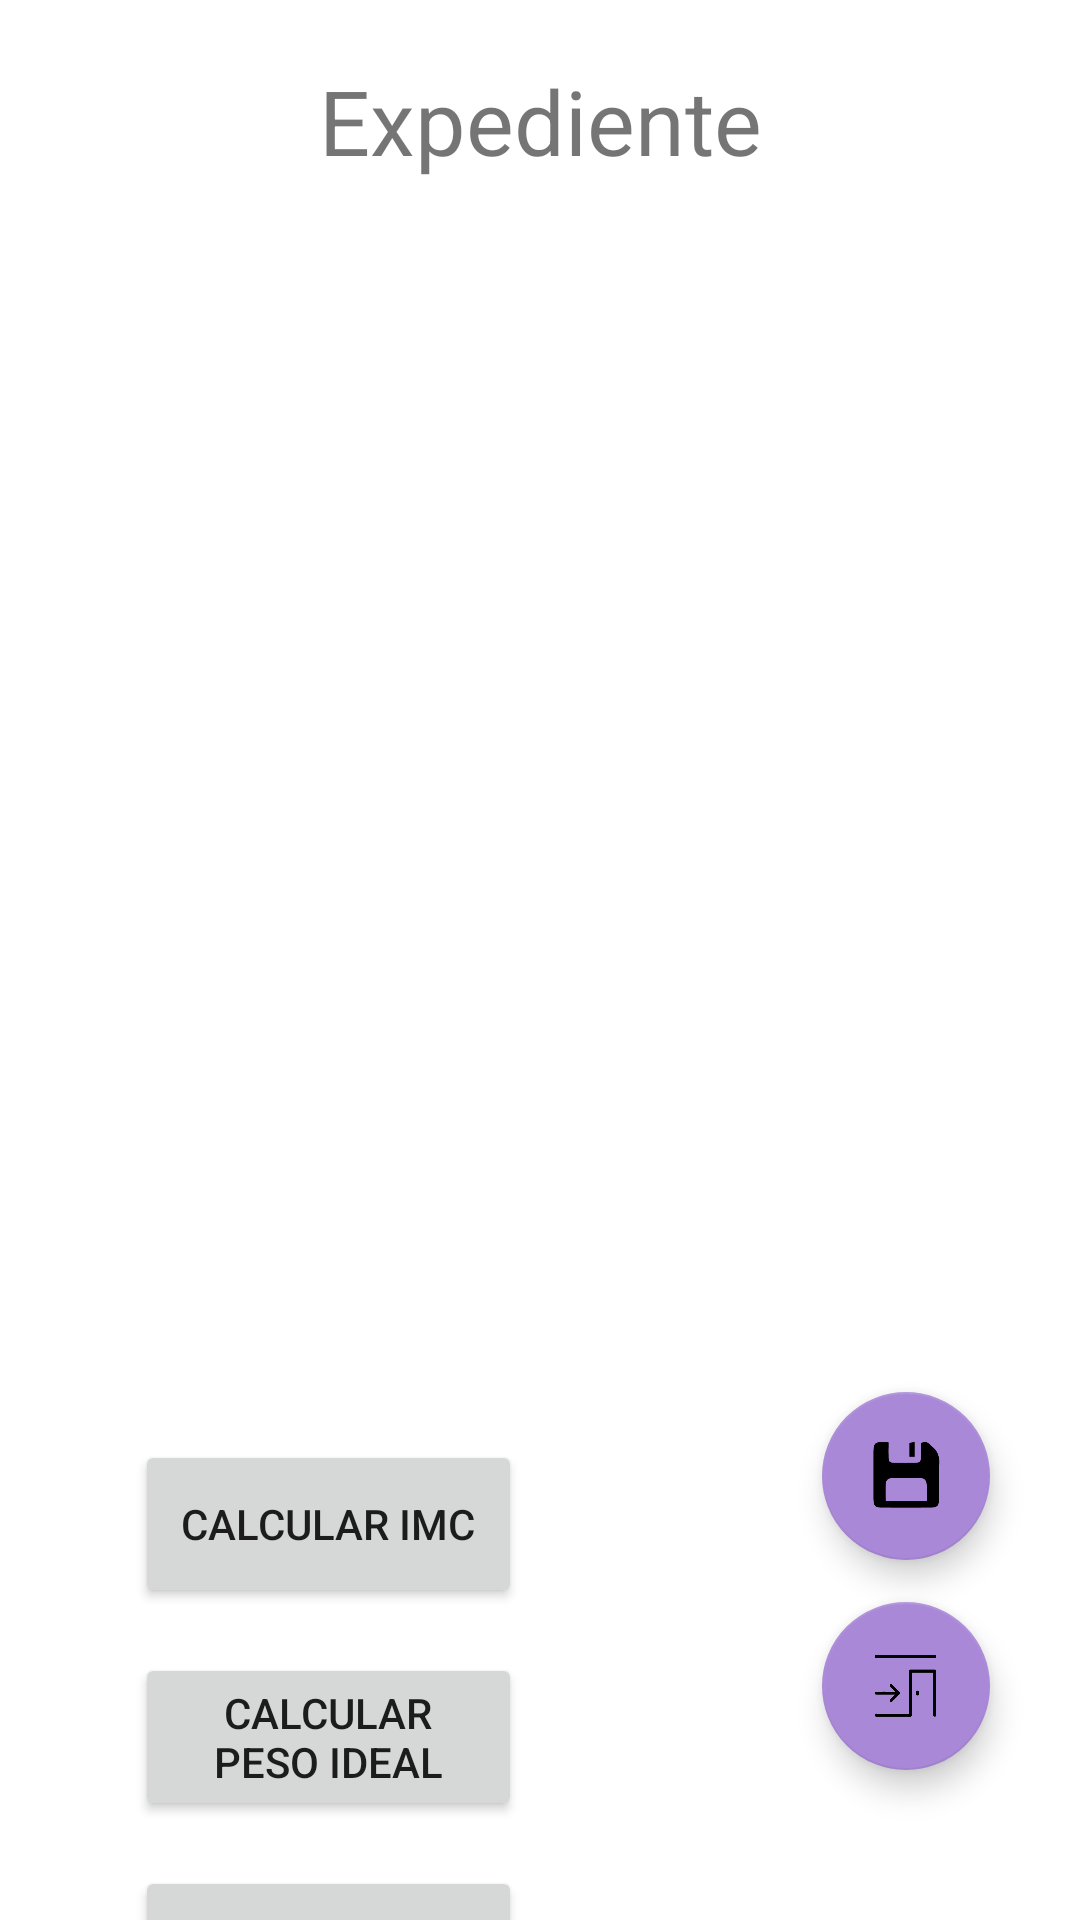

Named icons in this screenshot (1080px x 1920px) and their centers, [x,y]:
salir: [906,1686]
save: [906,1476]
